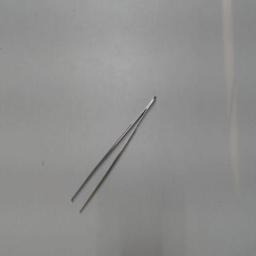Gillies Toothed Dissector: (63, 90, 163, 220)
